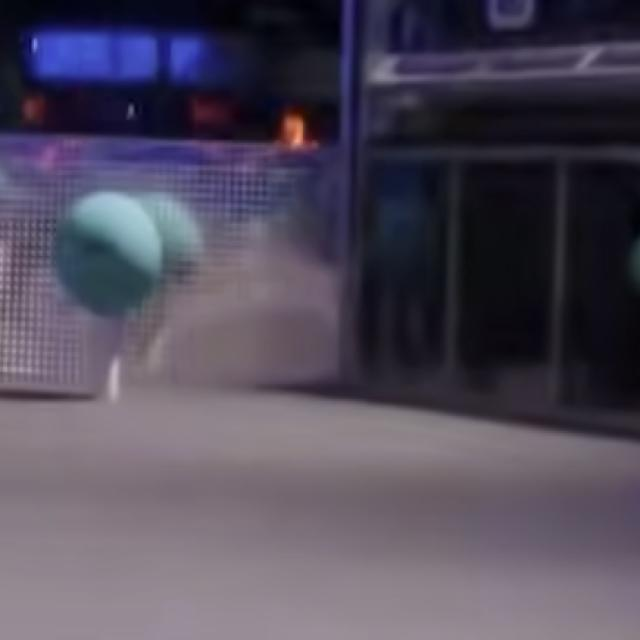Algae: (54, 192, 163, 320)
Coral: (92, 316, 122, 401)
